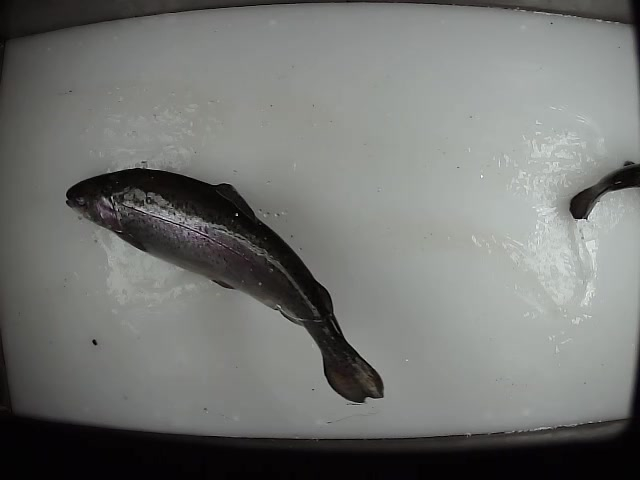fish: (64, 166, 385, 404)
